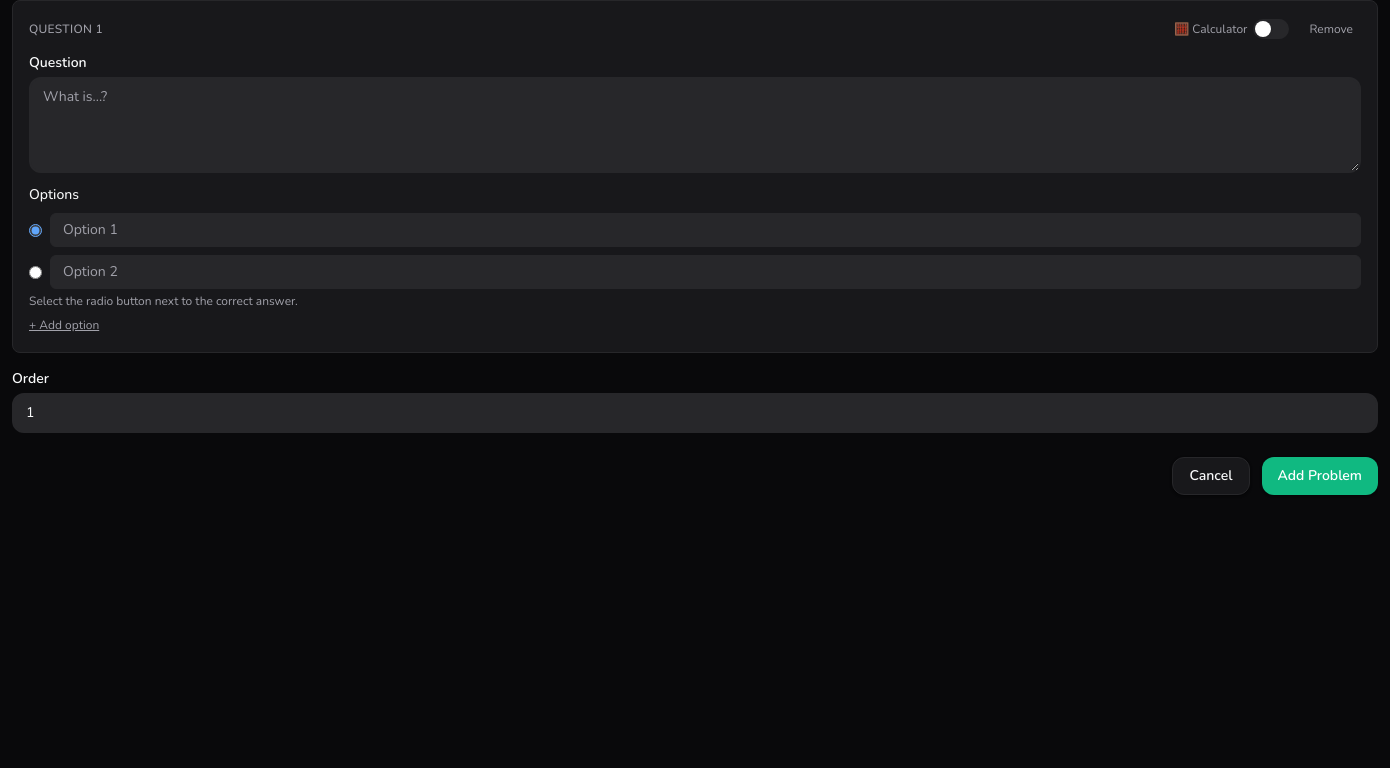
it: PracticeProblemForm › shows validation error when submitted with empty question
Click the button "Add Problem" at (1320, 476), box [1262, 457, 1378, 495]
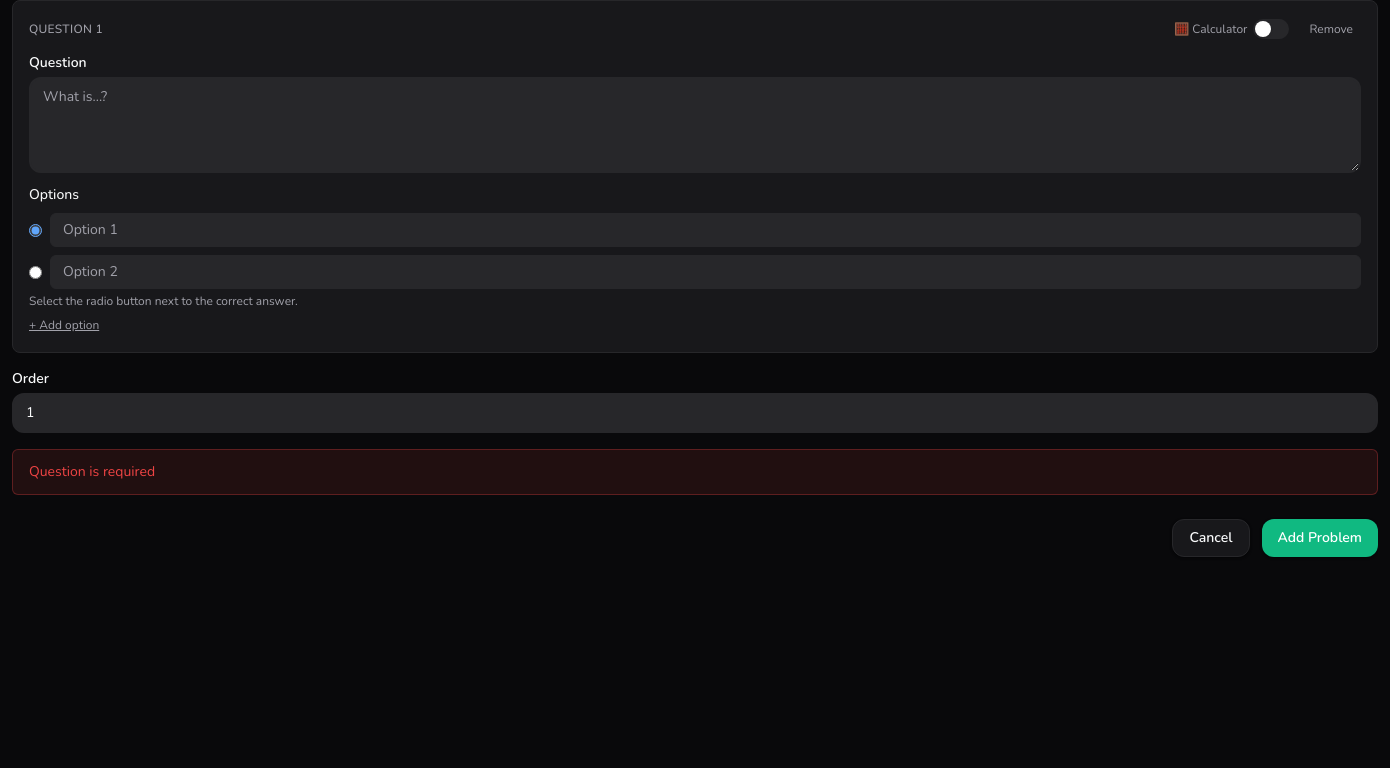
Result: the text "Question is required" is shown at [12, 449, 1378, 495]
